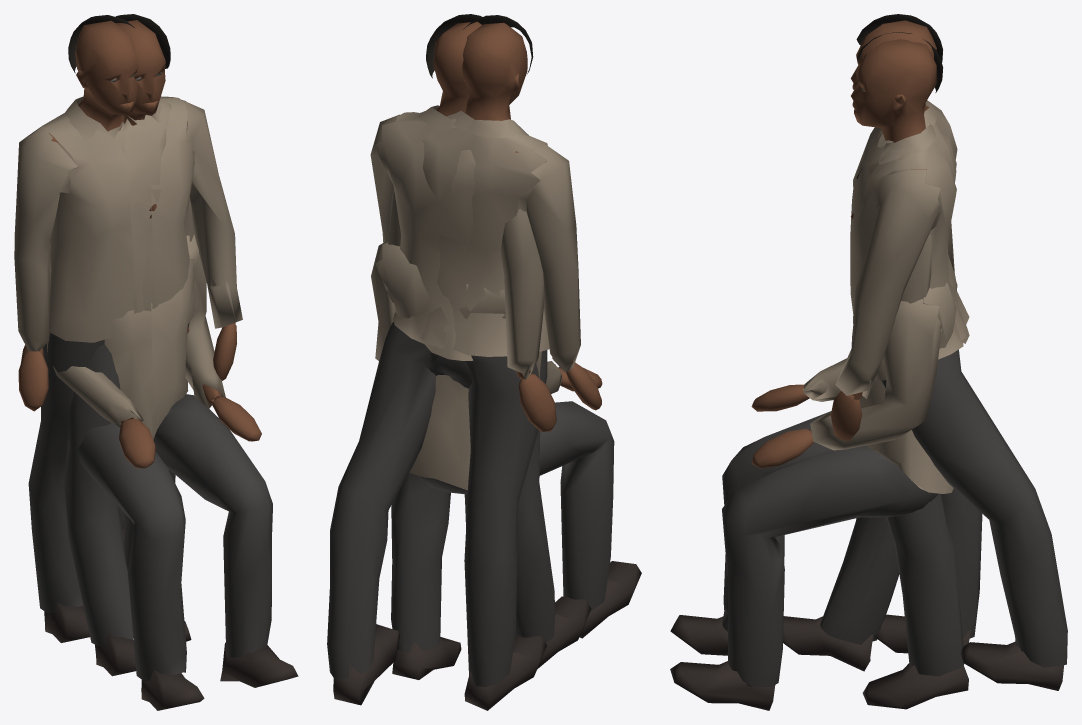
File: crowd-02-far.glb
The picture shows the model from 3 angles, left to right: view 1: azimuth 30°, elevation 25°; view 2: azimuth 150°, elevation 25°; view 3: azimuth 270°, elevation 25°; orthographic projection. The views are drawn at different scales.
Visible parts, largest first — view 1: seated, standing, walking; view 2: standing, walking, seated; view 3: walking, seated, standing.
Part boxes in pixels (x1=…): seated: x1=47, y1=203, x2=298, y2=710; standing: x1=14, y1=15, x2=194, y2=642; walking: x1=20, y1=14, x2=242, y2=676; standing: x1=387, y1=15, x2=601, y2=710; walking: x1=327, y1=14, x2=591, y2=705; seated: x1=371, y1=240, x2=641, y2=638; walking: x1=783, y1=32, x2=1067, y2=690; seated: x1=670, y1=169, x2=957, y2=710; standing: x1=850, y1=14, x2=982, y2=709.
Size of the model in its own units: 0.6604 by 1.9 by 1.05.
